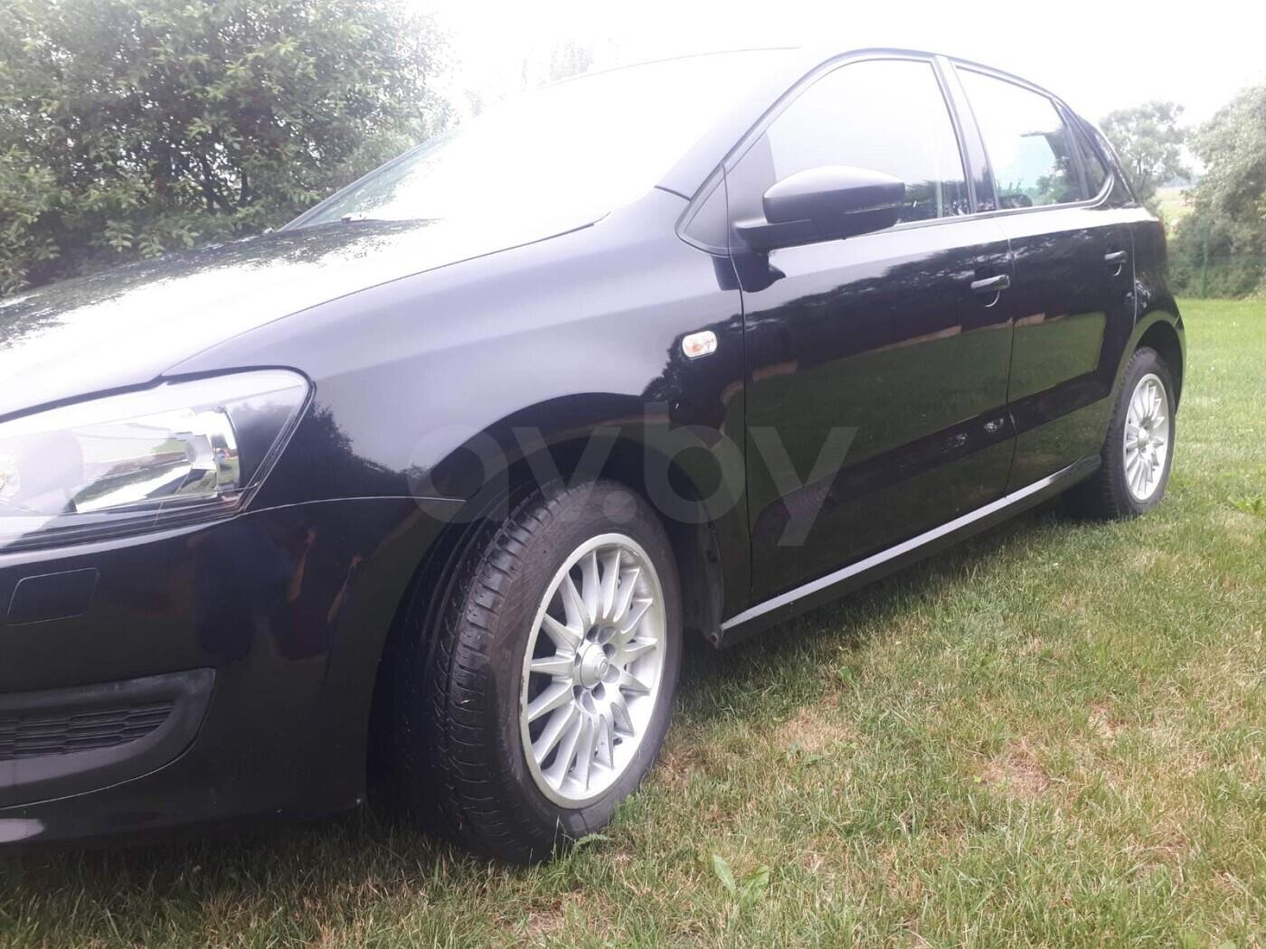Polo_2009-2015: (0, 0, 1203, 907)
